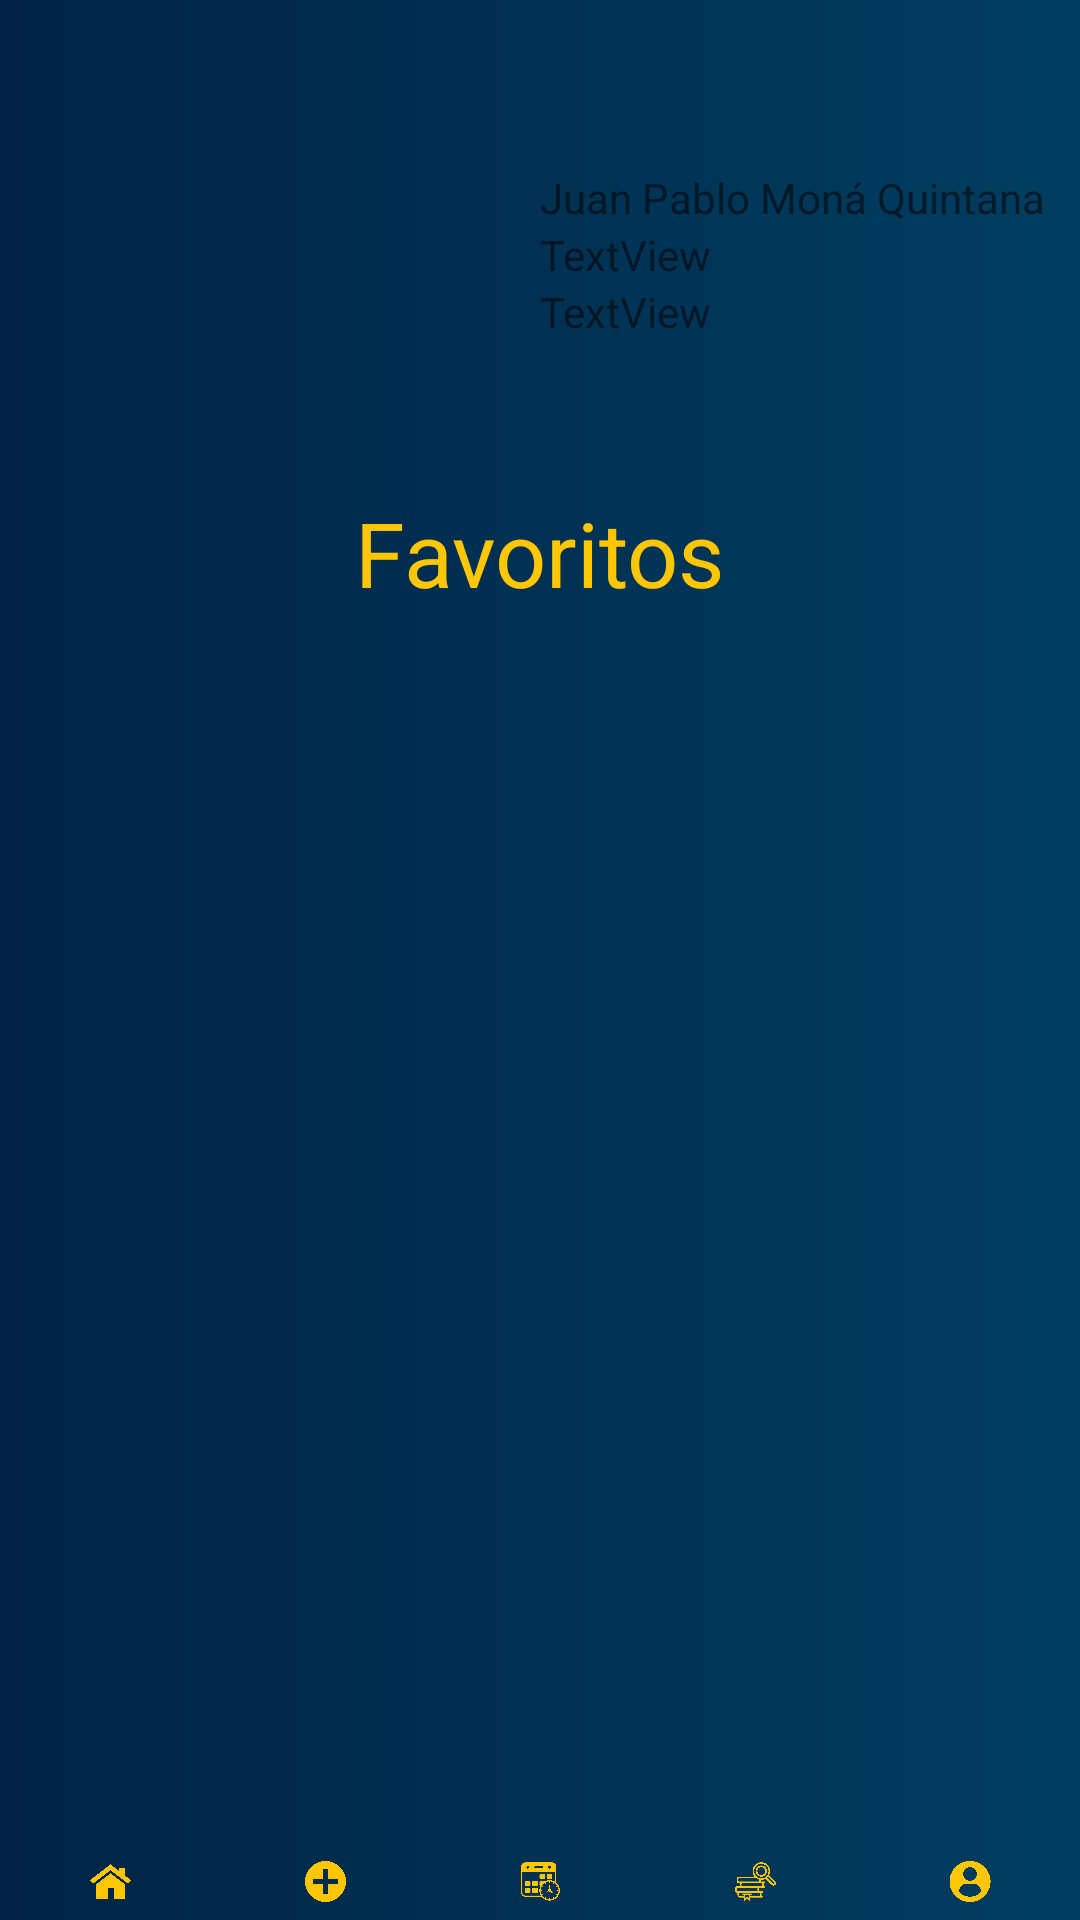

Where icons sit on this 1080*1920 app screen, as (x1, y1, x2, y2):
biblioteca: (735, 1862, 776, 1901)
hogar: (90, 1864, 131, 1899)
horarios: (521, 1862, 560, 1901)
plus: (305, 1861, 346, 1902)
usuario: (950, 1861, 991, 1902)
